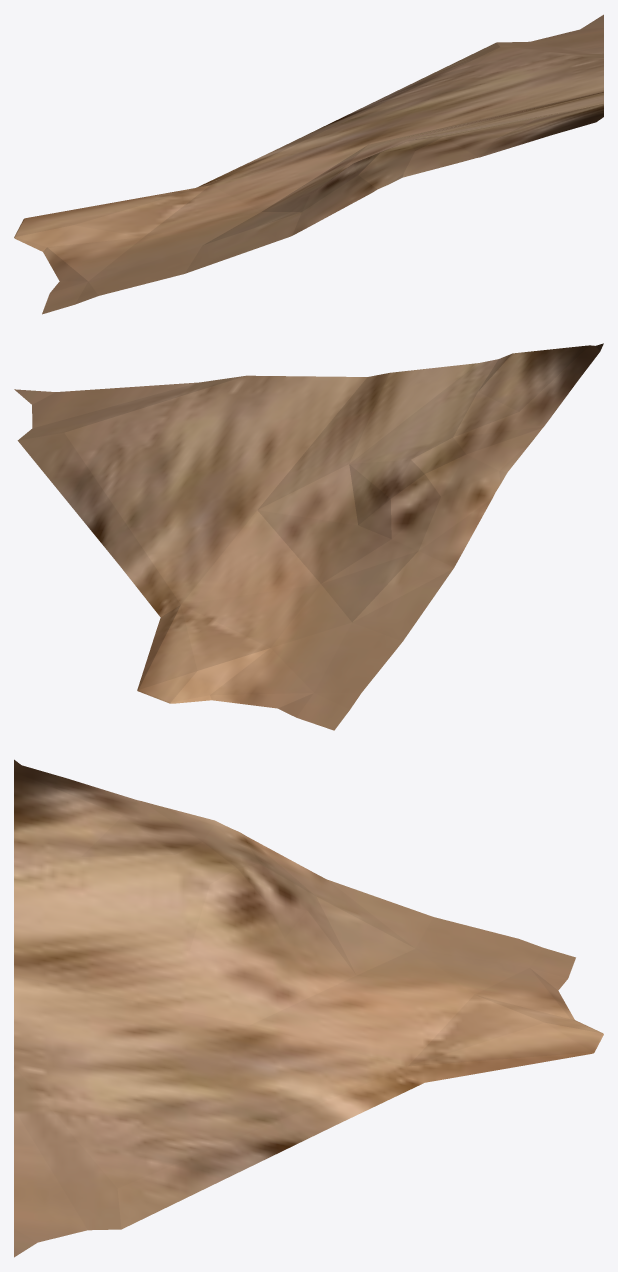
The picture shows the model from 3 angles, top to bottom: view 1: azimuth 90°, elevation 25°; view 2: azimuth 150°, elevation 25°; view 3: azimuth 270°, elevation 25°; orthographic projection. The views are drawn at different scales.
Bounding box in the file's own units: 0.2345 × 0.0722 × 0.1948.
1 material, 1 textured.
